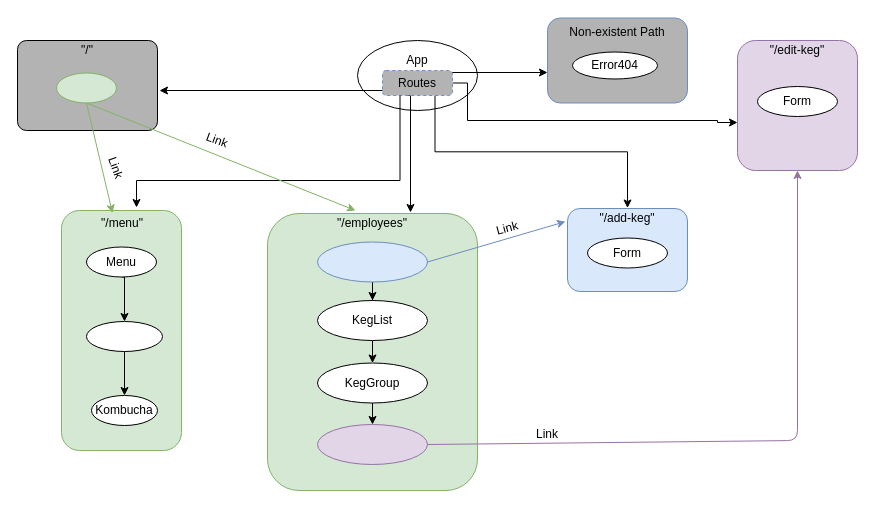
This 875x508 diagram has some shape labels left out. The shapes that lost their labels are listed below. From the top down, each one's centre as x and y in pixels, then its label:
[86,87]: Splash
[372,261]: EmployeeView
[124,336]: FlavorGroup
[372,444]: Keg
